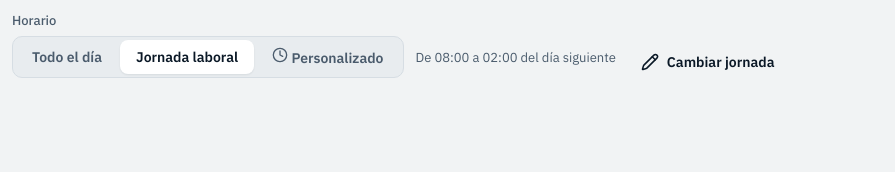
Test: HourFilterBar › 11. Esc cancela
Click the button "Cambiar jornada": coordinates (708, 62) [628, 46, 788, 78]
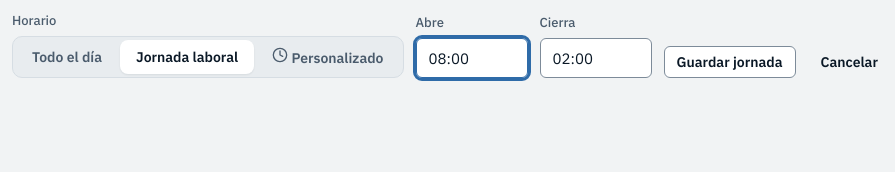
Press Escape in the field labelled "Abre", box [416, 38, 528, 78]
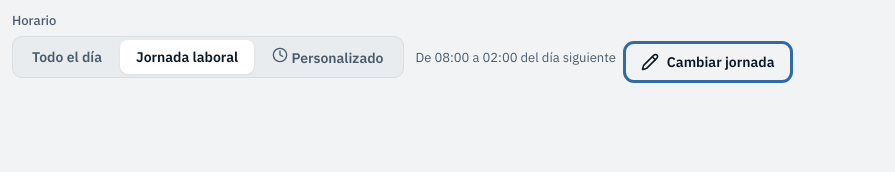
Expected: the label labelled "Abre" is gone
